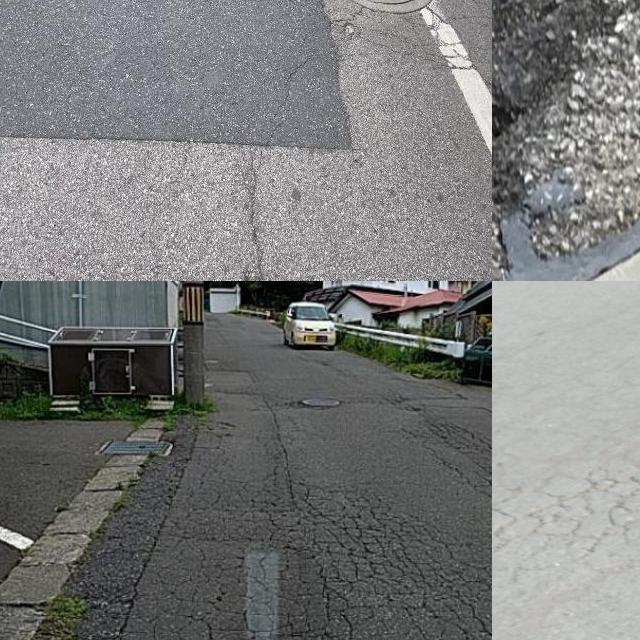Retak Buaya: (205, 480, 492, 640), (492, 464, 640, 594)
Sambungan: (0, 0, 359, 149)
